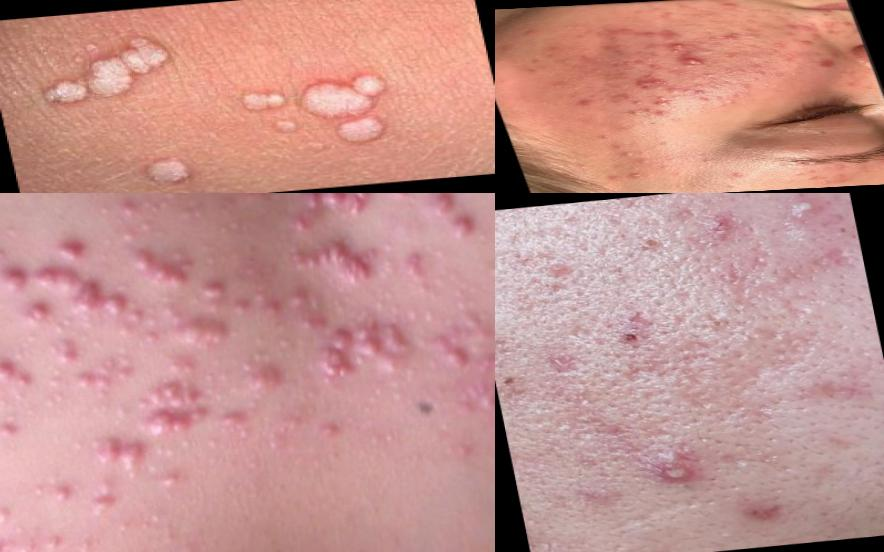flat_wart: (225, 66, 412, 164), (17, 32, 211, 117), (106, 144, 227, 194)
keloid: (31, 250, 136, 333), (285, 236, 383, 298), (131, 377, 215, 441), (121, 239, 193, 299), (169, 310, 239, 363), (313, 328, 360, 388), (288, 194, 360, 220)
papular: (1, 354, 44, 402), (446, 214, 483, 247), (428, 194, 463, 222), (649, 30, 691, 45), (809, 59, 842, 71), (718, 32, 750, 44), (793, 22, 818, 33), (568, 99, 598, 108), (614, 94, 643, 103), (775, 24, 801, 33), (615, 60, 641, 69), (794, 40, 819, 48), (837, 20, 859, 29), (719, 2, 742, 10), (639, 32, 661, 39), (645, 65, 665, 72)
purulent: (628, 449, 703, 498), (759, 194, 830, 233), (617, 171, 655, 184), (650, 95, 681, 109), (665, 41, 697, 52), (663, 49, 688, 57), (690, 89, 712, 97), (693, 97, 716, 104), (653, 111, 674, 118), (628, 100, 646, 107), (627, 110, 644, 117), (642, 108, 659, 115)
sebo-crystan-conglo: (719, 484, 810, 544), (351, 314, 418, 382), (428, 323, 496, 385), (70, 349, 143, 399), (85, 432, 150, 485), (278, 283, 334, 343), (241, 352, 295, 402), (470, 369, 496, 466), (338, 194, 380, 224), (22, 298, 49, 333), (619, 78, 669, 92), (670, 57, 715, 69), (383, 194, 426, 206)
whitehead: (148, 428, 207, 470), (163, 194, 216, 235), (411, 291, 448, 334), (612, 149, 660, 167), (789, 168, 829, 185), (734, 26, 766, 45), (795, 143, 831, 156), (721, 171, 753, 184), (695, 71, 724, 81), (661, 86, 688, 95), (749, 8, 777, 15), (730, 68, 753, 76), (719, 67, 737, 76), (660, 13, 681, 20), (777, 11, 796, 18), (497, 45, 515, 52), (681, 23, 697, 29), (743, 20, 759, 26)
